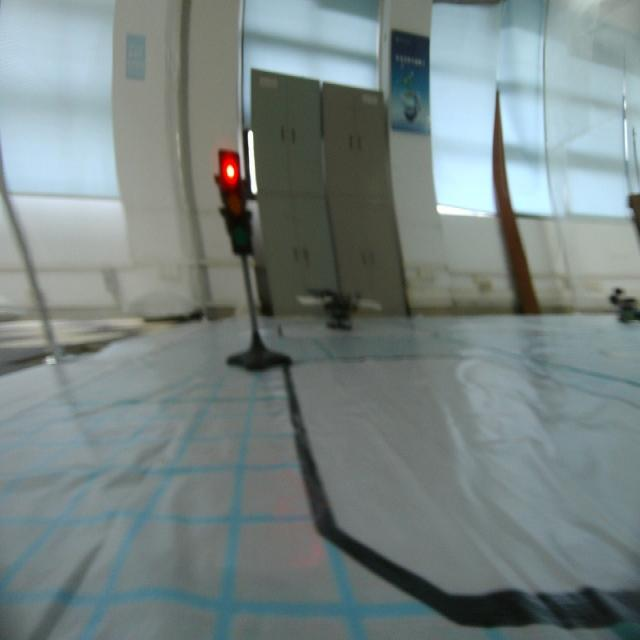red: (208, 141, 256, 265)
